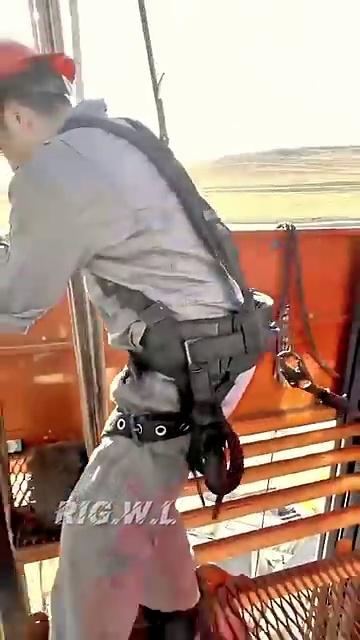helmet: (0, 47, 80, 107)
worker: (0, 65, 190, 633)
